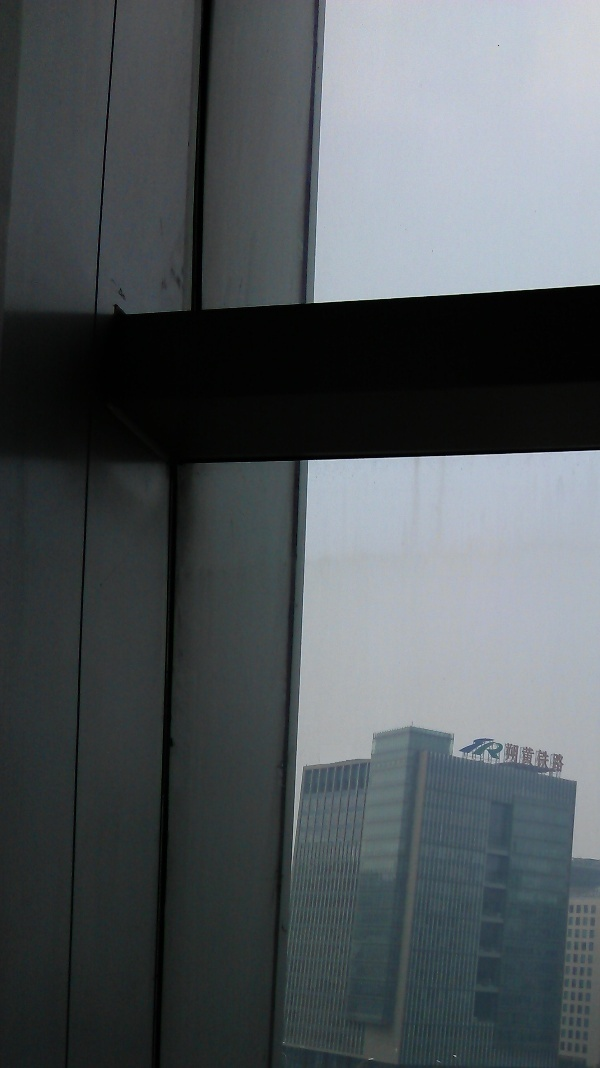text: (513, 741, 528, 774), (529, 741, 544, 774), (545, 741, 560, 774), (481, 736, 496, 760), (561, 741, 567, 774), (497, 736, 504, 760), (507, 741, 512, 774), (477, 736, 480, 760)
